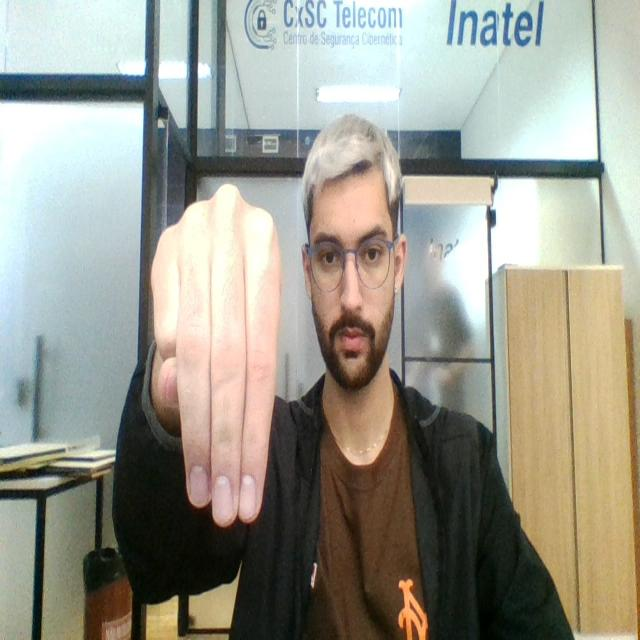M: (144, 174, 284, 537)
